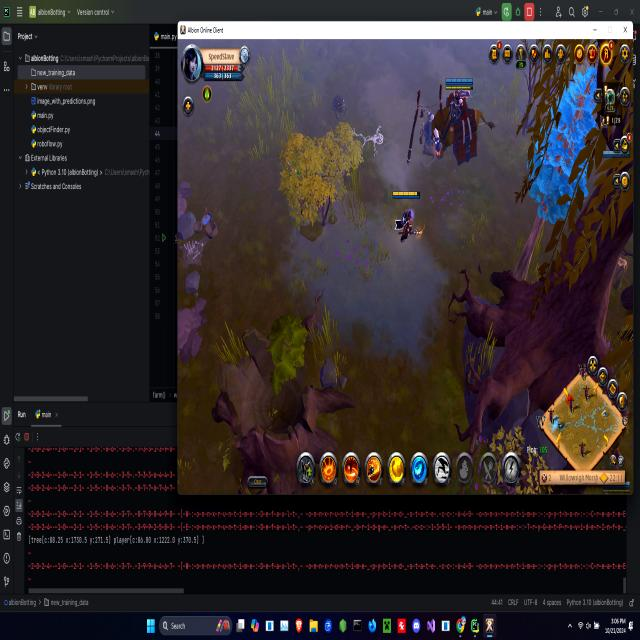ore: (328, 90, 351, 124)
red: (422, 71, 476, 166), (393, 188, 424, 254)
wisp caged: (514, 65, 598, 298)
